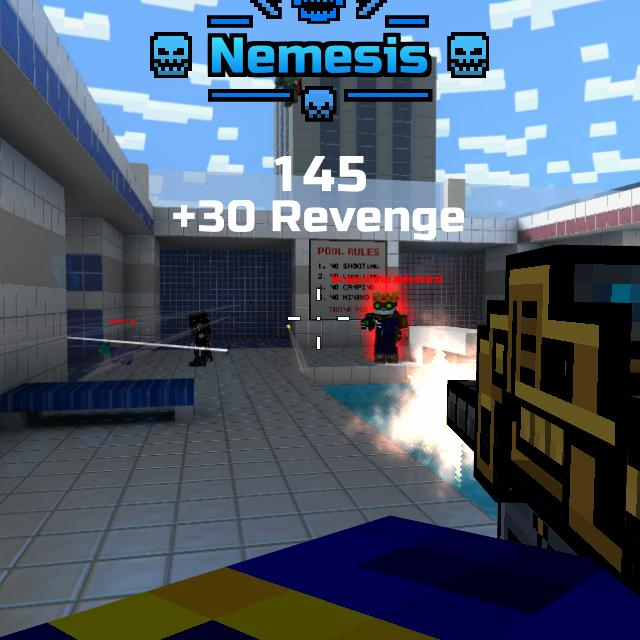Enemy: (361, 295, 408, 364)
